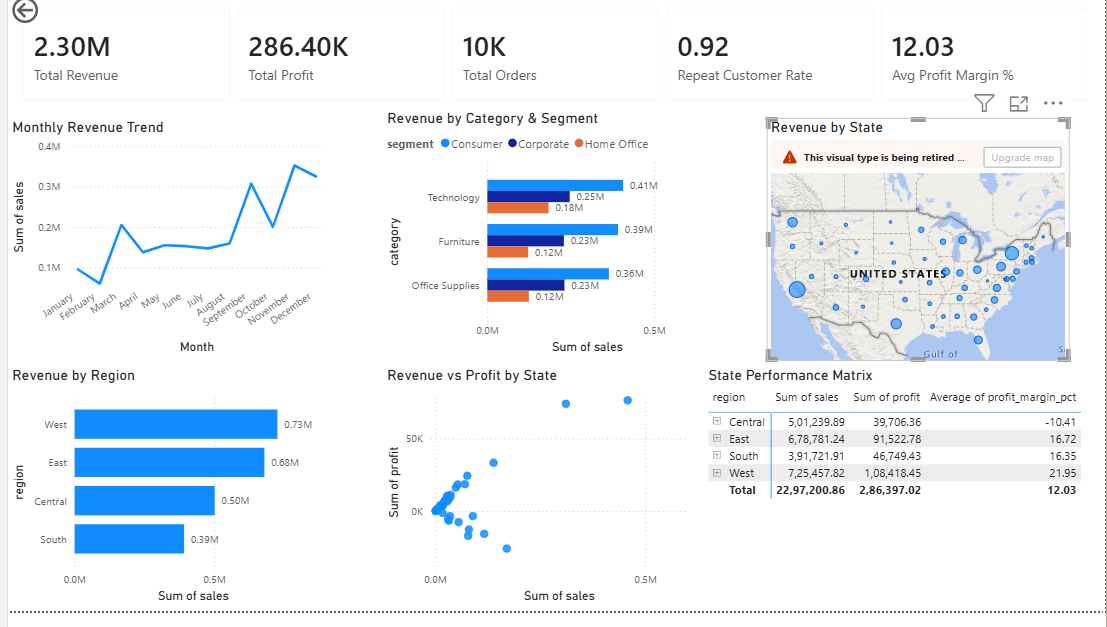

Layout of this report page (visuals, bound fields, positions):
{"tool":"powerbi","page":{"name":"Page 1","canvas":[1280,720],"ordinal":0},"visuals":[{"type":"cardVisual","fields":{"Data":["cleaned_sales_data.Total Revenue","cleaned_sales_data.Total Profit","cleaned_sales_data.Total Orders","cleaned_sales_data.Repeat Customer Rate","cleaned_sales_data.Avg Profit Margin %"]},"box":[0,0,1280.3,142.7],"z":0},{"type":"lineChart","title":"Monthly Revenue Trend","fields":{"Category":["cleaned_sales_data.order_date.Variation.Date Hierarchy.Month"],"Y":["Sum(cleaned_sales_data.sales)"]},"box":[0,145.7,374.3,279.7],"z":1},{"type":"clusteredBarChart","title":"Revenue by Category & Segment","fields":{"Category":["cleaned_sales_data.category"],"Y":["Sum(cleaned_sales_data.sales)"],"Series":["cleaned_sales_data.segment"]},"box":[437,135.5,374.3,289.9],"z":2},{"type":"map","title":"Revenue by State","fields":{"Category":["cleaned_sales_data.state"],"Size":["Sum(cleaned_sales_data.sales)"]},"box":[884.1,145.7,352.5,282.6],"z":3},{"type":"barChart","title":"Revenue by Region","fields":{"Category":["cleaned_sales_data.region"],"Y":["Sum(cleaned_sales_data.sales)"]},"box":[0,436,374,280],"z":4},{"type":"scatterChart","title":"Revenue vs Profit by State","fields":{"Category":["cleaned_sales_data.state"],"Y":["Sum(cleaned_sales_data.profit)"],"X":["Sum(cleaned_sales_data.sales)"]},"box":[437,436,374,280],"z":5},{"type":"pivotTable","title":"State Performance Matrix","fields":{"Rows":["cleaned_sales_data.region","cleaned_sales_data.state"],"Values":["Sum(cleaned_sales_data.sales)","Sum(cleaned_sales_data.profit)","Avg(cleaned_sales_data.profit_margin_pct)"]},"box":[811.3,435.5,453,281.1],"z":6},{"type":"actionButton","box":[0,0,100,40],"z":7}]}

Visuals, with their boxes on the page's 1280x720 design canvas (x1, y1, x2, y2). These are canvas units, not pixel positions in the 1107x627 screenshot, which may show the page scaled, cropped or inside an application window:
cardVisual - cleaned_sales_data.Total Revenue x cleaned_sales_data.Total Profit: x1=0 y1=0 x2=1280 y2=143
"Monthly Revenue Trend" lineChart: x1=0 y1=146 x2=374 y2=425
"Revenue by Category & Segment" clusteredBarChart: x1=437 y1=136 x2=811 y2=425
"Revenue by State" map: x1=884 y1=146 x2=1237 y2=428
"Revenue by Region" barChart: x1=0 y1=436 x2=374 y2=716
"Revenue vs Profit by State" scatterChart: x1=437 y1=436 x2=811 y2=716
"State Performance Matrix" pivotTable: x1=811 y1=436 x2=1264 y2=717
actionButton: x1=0 y1=0 x2=100 y2=40
